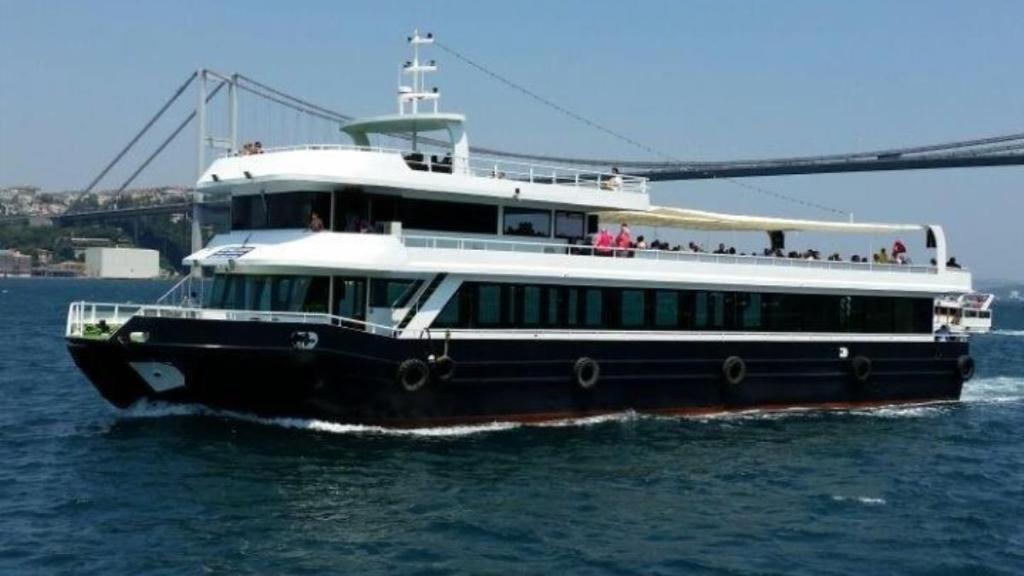PassengerShip: (65, 40, 985, 438)
